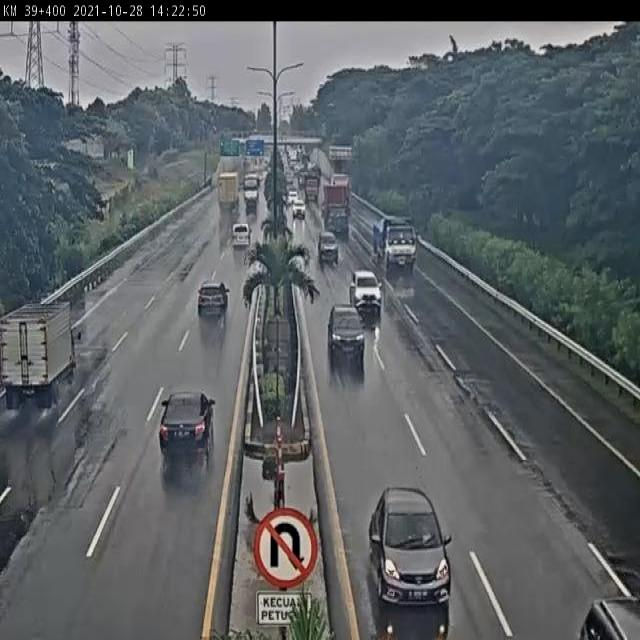Car: (358, 479, 453, 621), (159, 388, 217, 481), (327, 304, 365, 382), (348, 269, 382, 320), (197, 280, 230, 316), (317, 230, 339, 263), (231, 222, 252, 249)
Truck: (0, 304, 82, 400), (371, 210, 420, 273)
